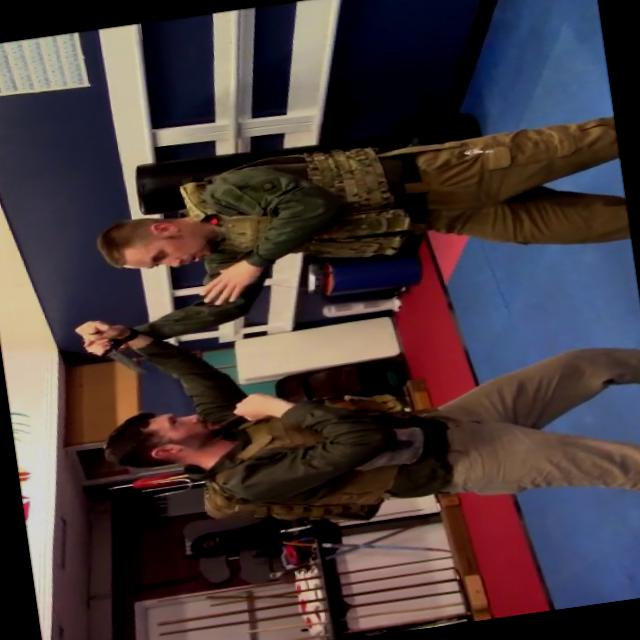knife: (97, 341, 153, 382)
